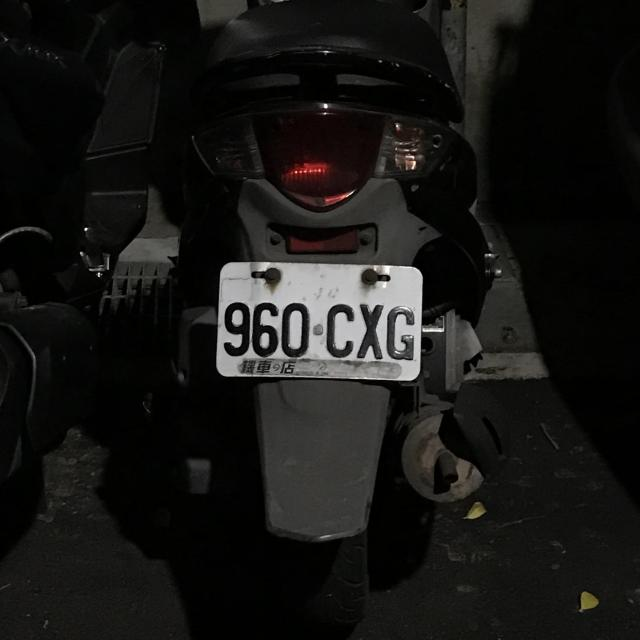W: (210, 252, 427, 388)
